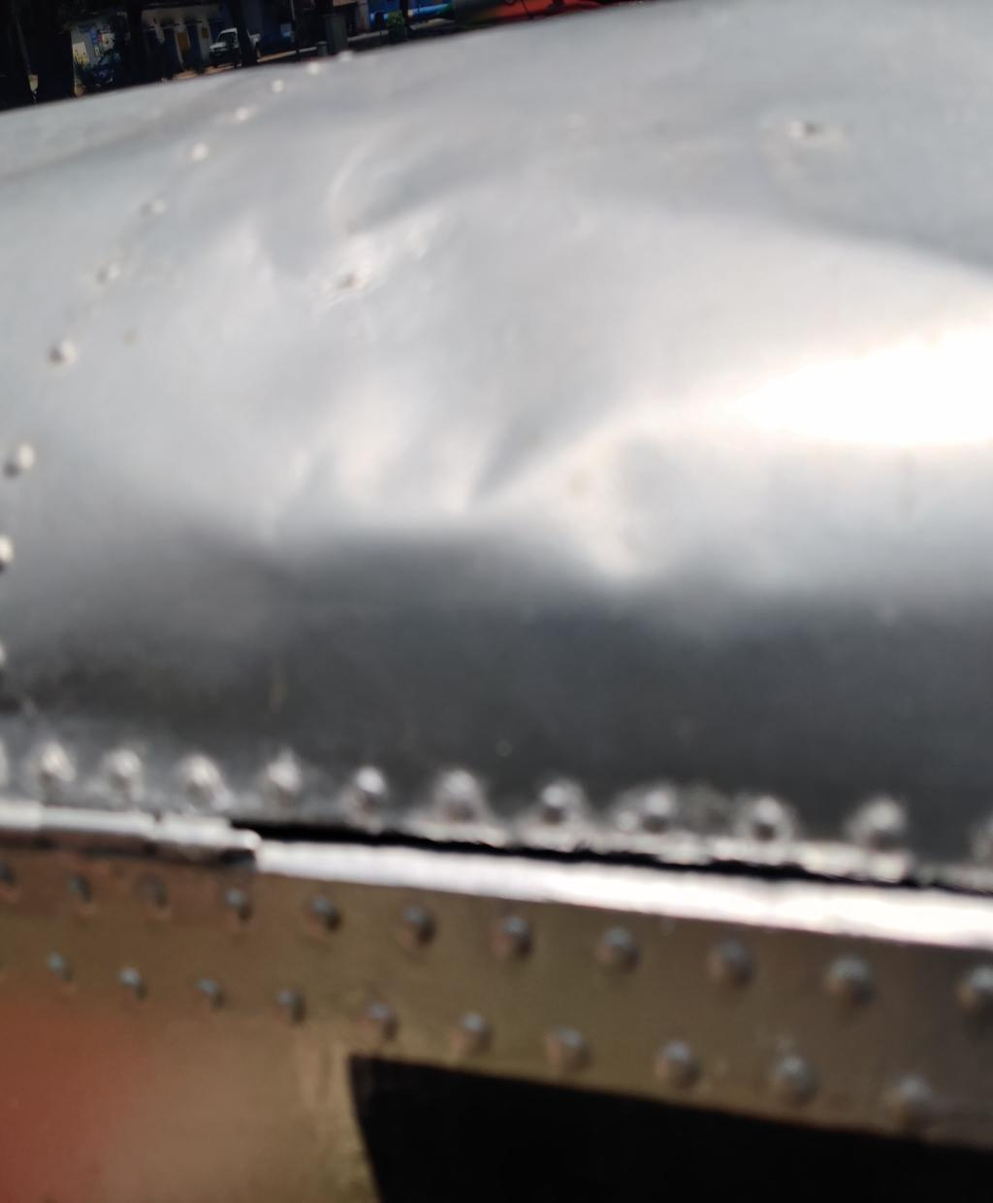dent: (371, 305, 629, 558)
